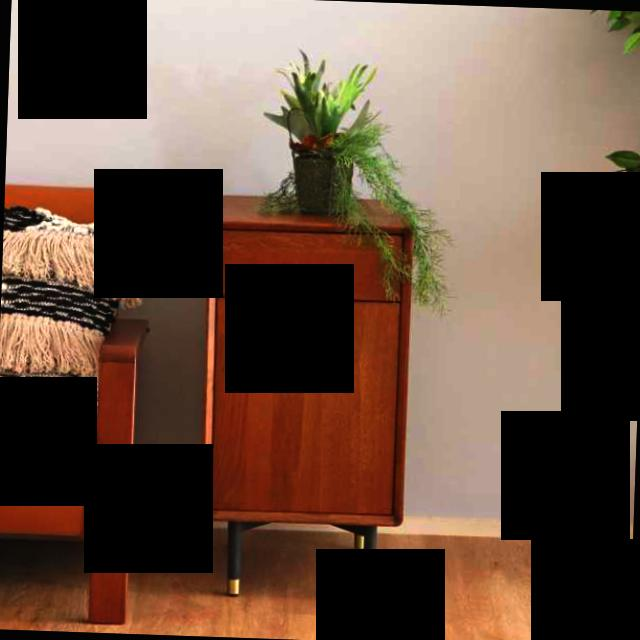vintage shelf: (195, 181, 420, 604)
